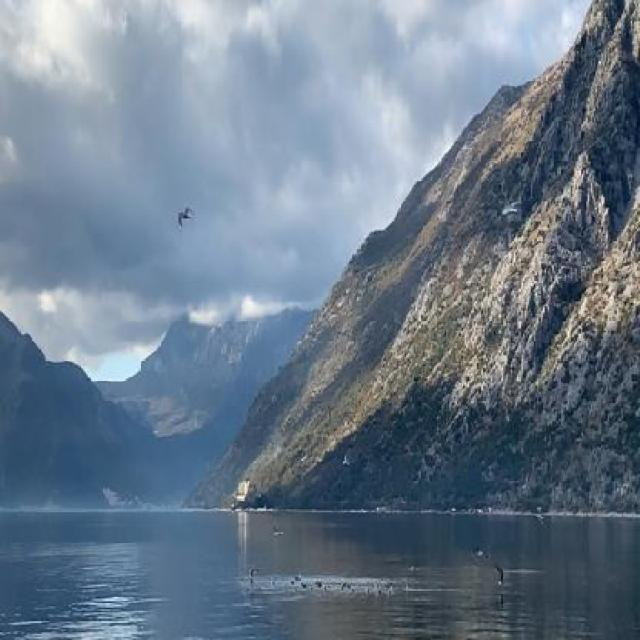bird: (468, 536, 508, 595), (172, 195, 194, 236)
